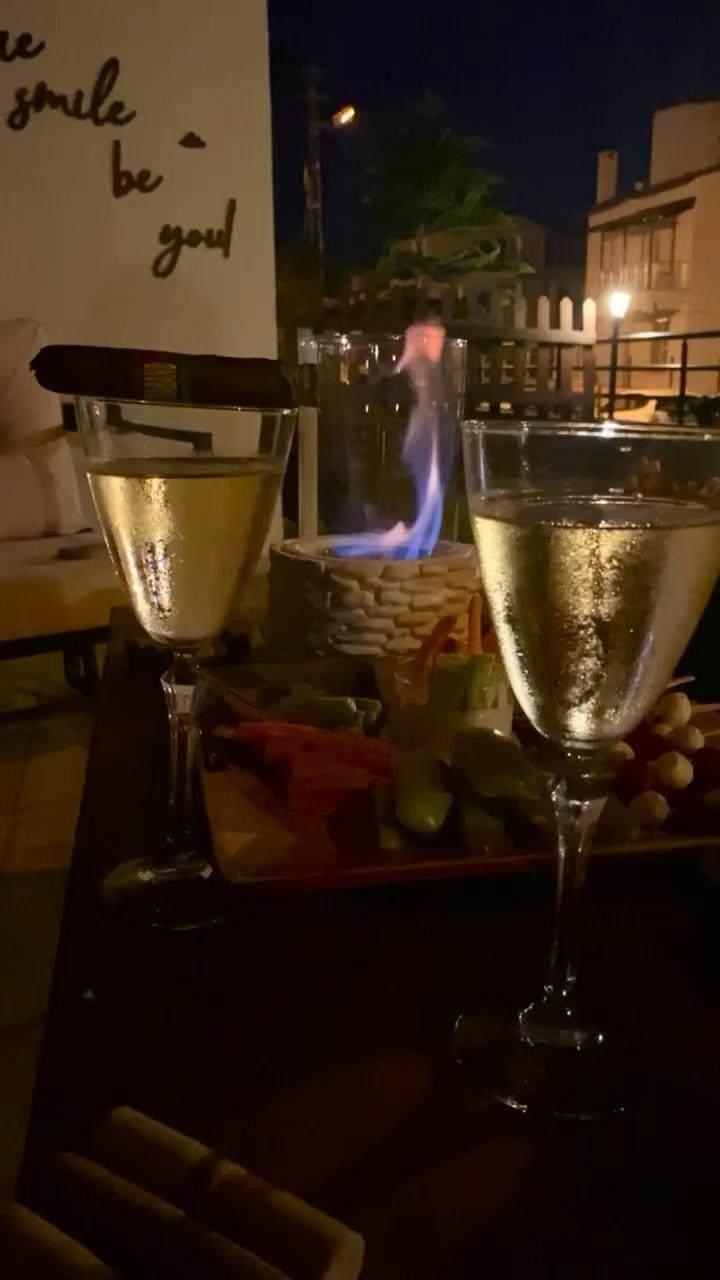glass-wine: (429, 366, 720, 1122), (40, 346, 303, 929)
